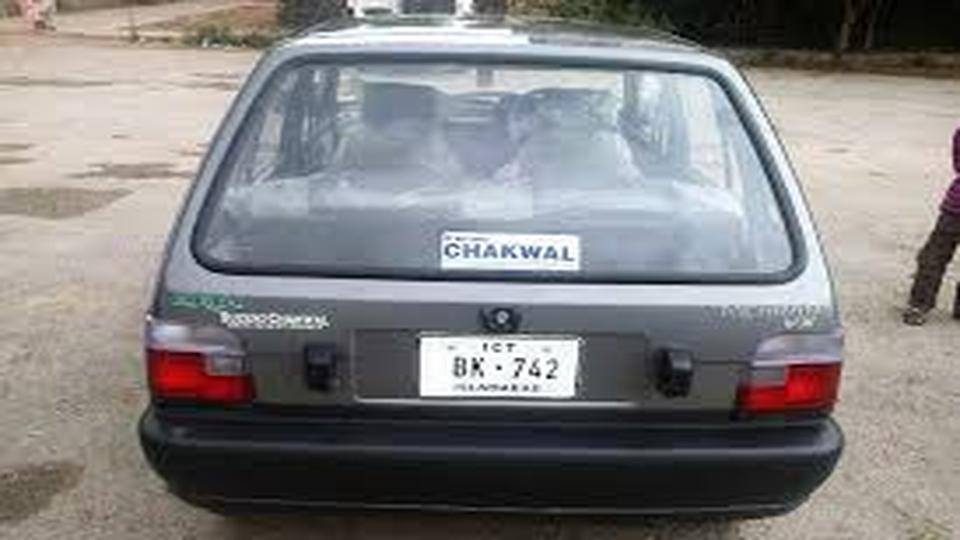NumberPlate: (421, 331, 579, 409)
